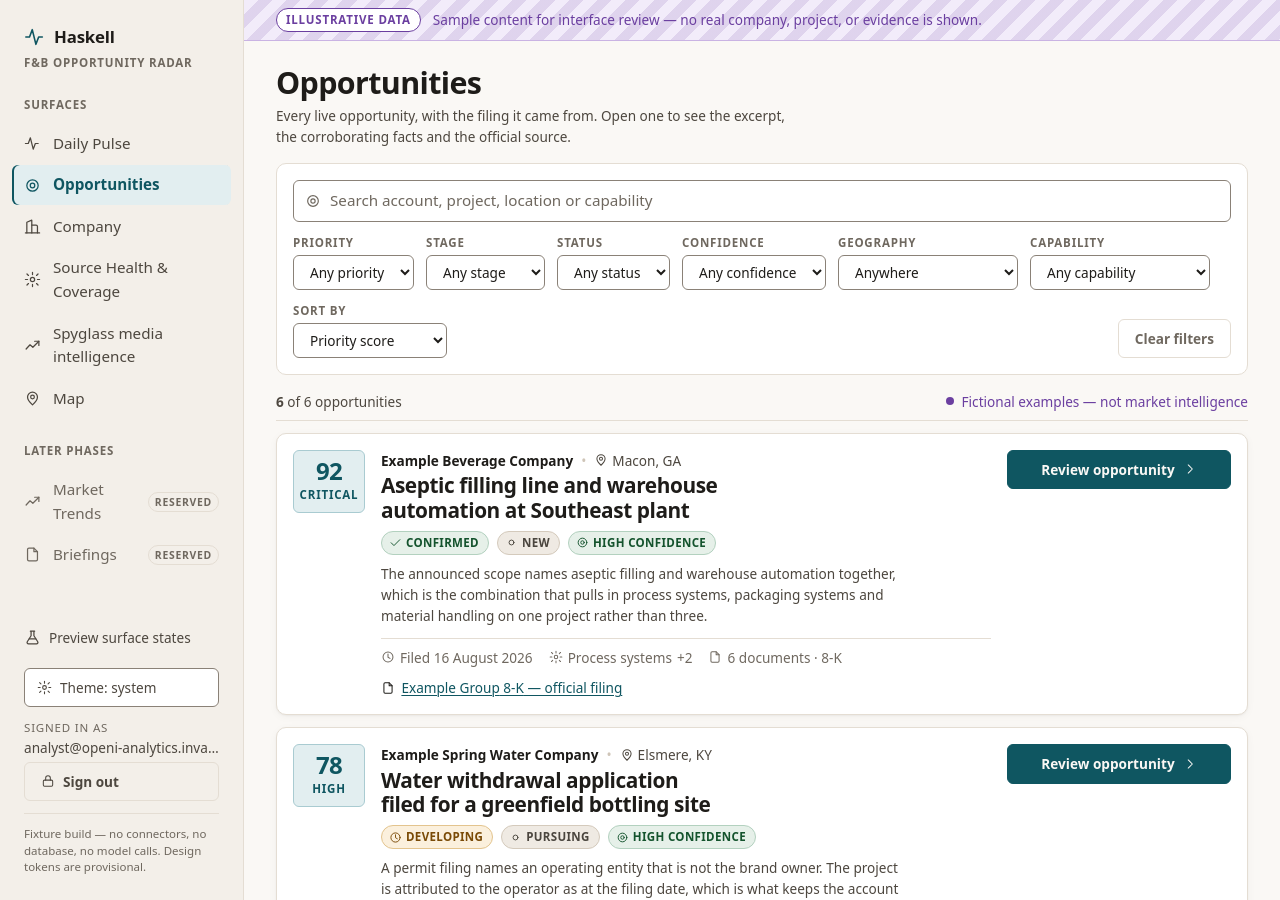
Test case: search and filters › shows an explicit no-match state rather than a blank list
In the search field named "Search opportunities": (762, 201) top-left (293, 180), bottom-right (1231, 222), type "zzzznomatch"
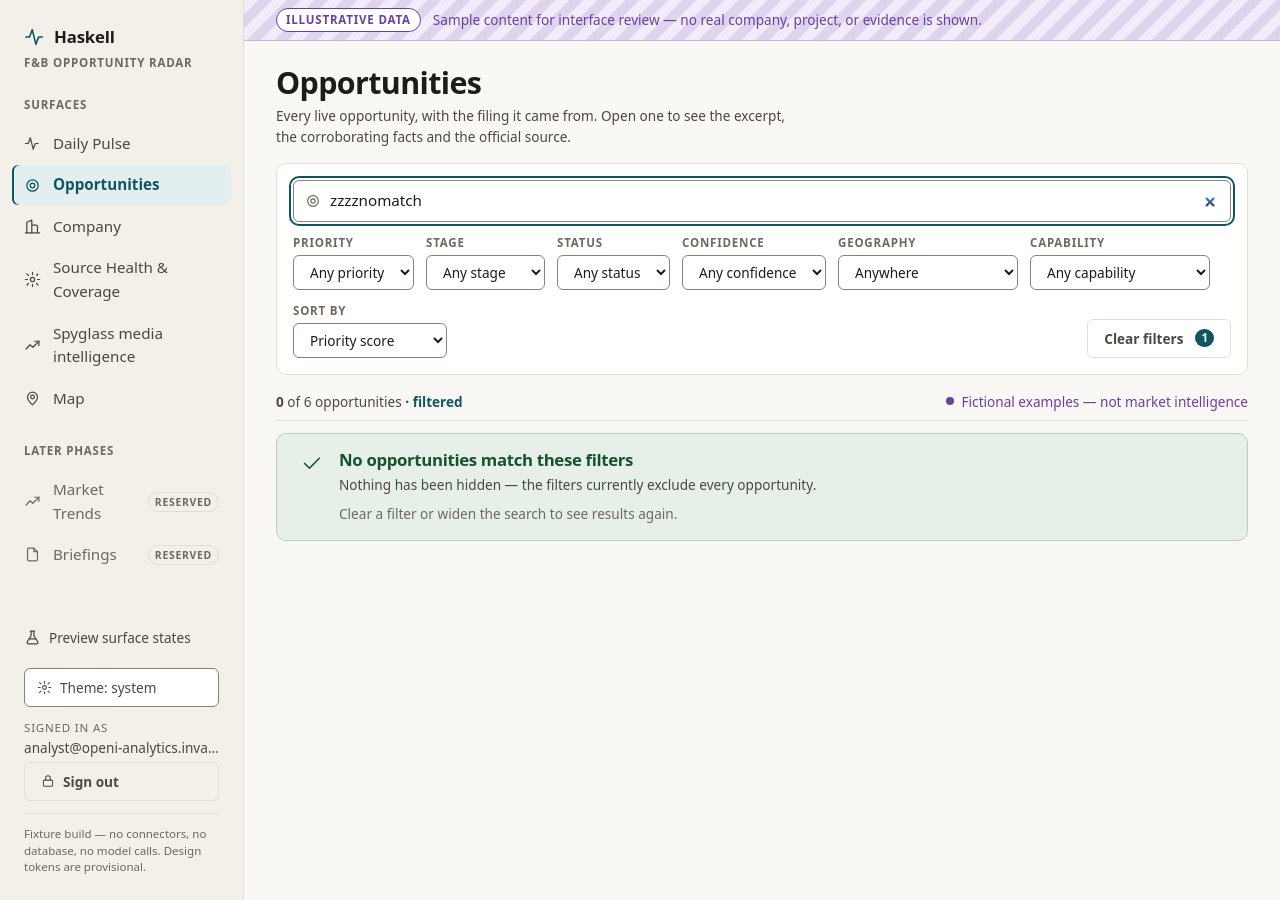
Expected: the heading "No opportunities match these filters" is shown, top-left (339, 448), bottom-right (633, 471)
Expected: the text "Nothing has been hidden" is shown, top-left (339, 475), bottom-right (816, 494)
